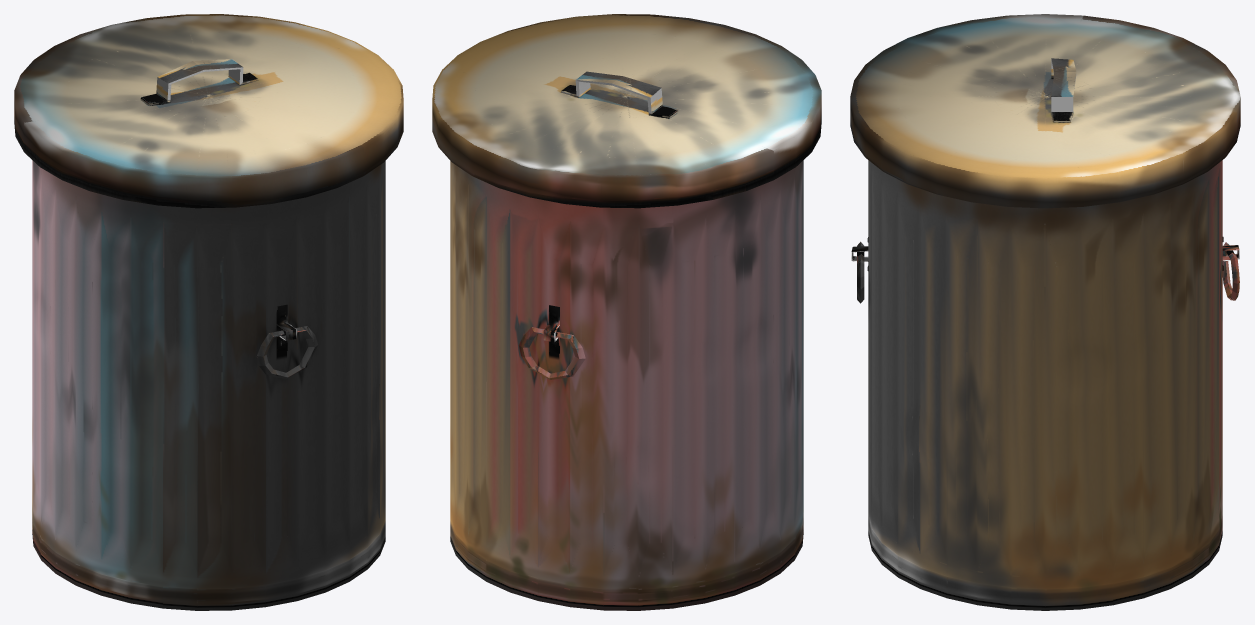
3 renders of one model, left to right at view 1: azimuth 30°, elevation 25°; view 2: azimuth 150°, elevation 25°; view 3: azimuth 270°, elevation 25°, orthographic.
Parts seen in each view (by area): view 1: Plane.005; view 2: Plane.005; view 3: Plane.005.
Part boxes in pixels (x1=…): Plane.005: x1=14, y1=14, x2=403, y2=610; Plane.005: x1=432, y1=14, x2=821, y2=610; Plane.005: x1=850, y1=14, x2=1240, y2=610.
Size of the model in its own units: 150 by 197 by 150.
Materials: 1 (1 with a texture image).
